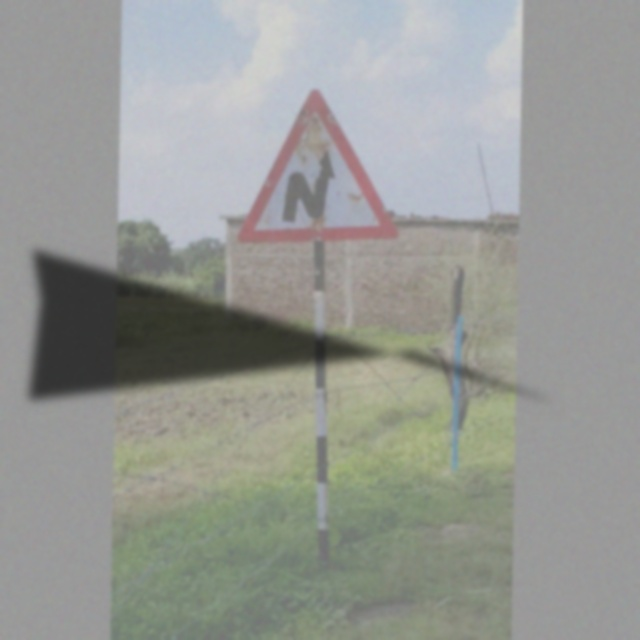Right_Reverse_Bend: (239, 88, 395, 242)
